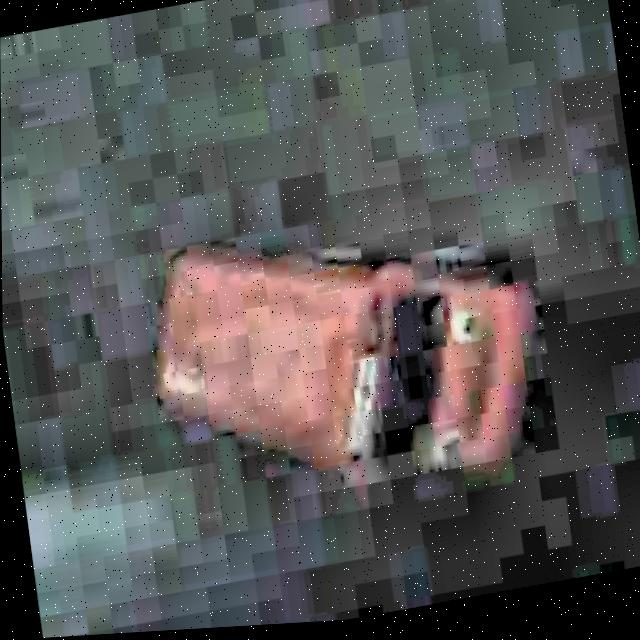bus: (116, 170, 570, 548)
